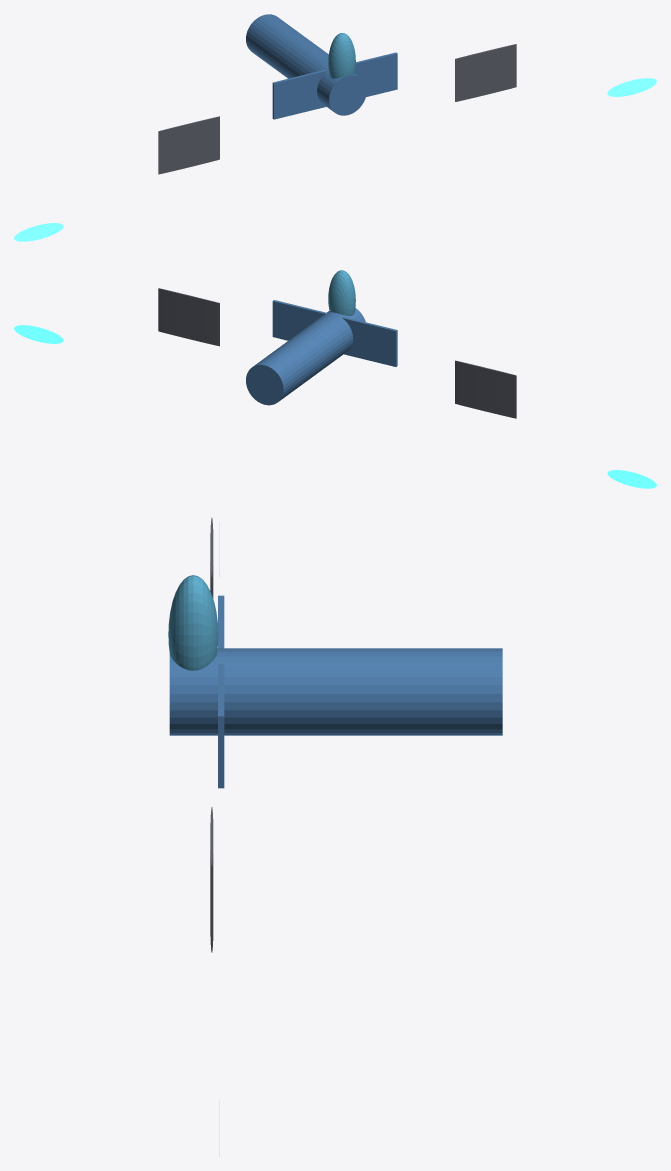
Rendered from AL_ShrikeInterceptor_LOD2.glb.
The picture shows the model from 3 angles, top to bottom: view 1: azimuth 30°, elevation 25°; view 2: azimuth 150°, elevation 25°; view 3: azimuth 270°, elevation 25°; orthographic projection. The views are drawn at different scales.
Parts seen in each view (by area): view 1: Cylinder, Cube, Cylinder.001, Cylinder.003, Sphere, Cylinder.004, Cylinder.002; view 2: Cylinder, Cube, Cylinder.001, Cylinder.003, Sphere, Cylinder.004, Cylinder.002; view 3: Cylinder, Sphere, Cube.
Boxes of the visible parts, x1=… form: Cylinder: x1=246, y1=14, x2=366, y2=115; Cube: x1=272, y1=52, x2=397, y2=119; Cylinder.001: x1=158, y1=116, x2=219, y2=174; Cylinder.003: x1=455, y1=44, x2=516, y2=101; Sphere: x1=328, y1=33, x2=355, y2=78; Cylinder.004: x1=607, y1=78, x2=656, y2=96; Cylinder.002: x1=14, y1=223, x2=63, y2=241; Cylinder: x1=246, y1=308, x2=365, y2=405; Cube: x1=272, y1=300, x2=397, y2=366; Cylinder.001: x1=455, y1=360, x2=516, y2=418; Cylinder.003: x1=158, y1=288, x2=219, y2=346; Sphere: x1=328, y1=270, x2=355, y2=315; Cylinder.004: x1=14, y1=325, x2=63, y2=343; Cylinder.002: x1=607, y1=470, x2=656, y2=488; Cylinder: x1=169, y1=648, x2=502, y2=735; Sphere: x1=168, y1=575, x2=218, y2=670; Cube: x1=218, y1=595, x2=224, y2=788.
Size of what is drawn, in the model's own units: 18.72 by 3.86 by 4.21.
